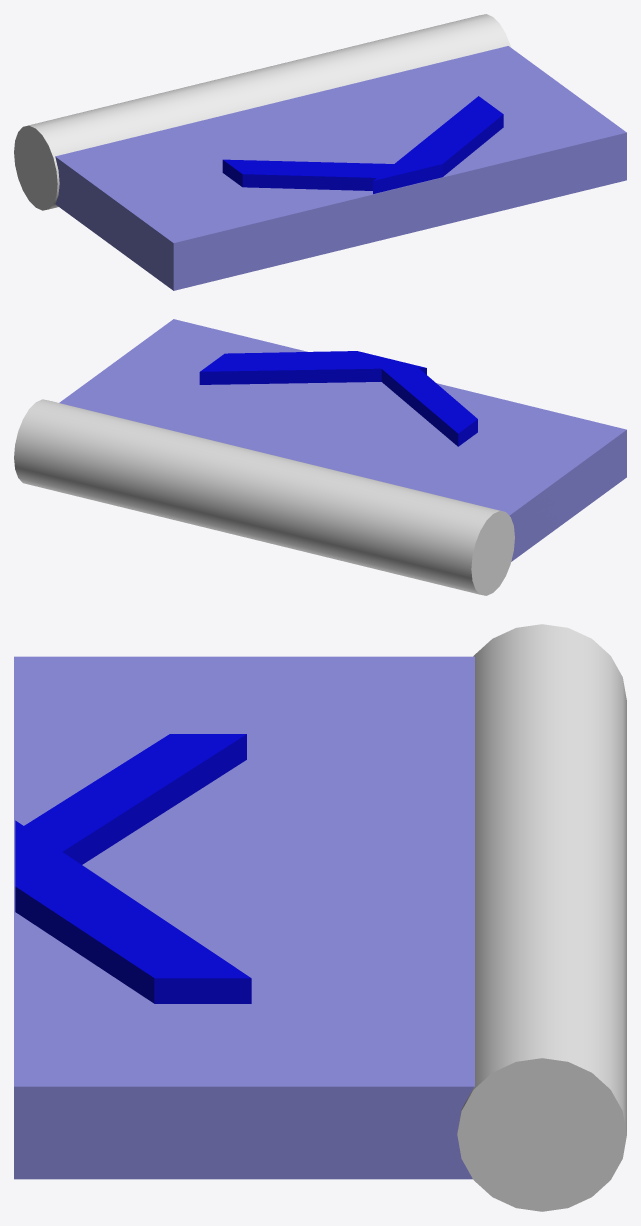
Rendered from X_Right.fbx.
3 renders of one model, top to bottom at view 1: azimuth 30°, elevation 25°; view 2: azimuth 150°, elevation 25°; view 3: azimuth 270°, elevation 25°, orthographic. The views are drawn at different scales.
Visible parts, largest first — view 1: polySurface8; view 2: polySurface8; view 3: polySurface8.
Part boxes in pixels (x1=…): polySurface8: x1=14, y1=14, x2=626, y2=290; polySurface8: x1=14, y1=319, x2=626, y2=595; polySurface8: x1=14, y1=624, x2=626, y2=1211.
Bounding box in the file's own units: 6.05 × 1 × 3.61.
